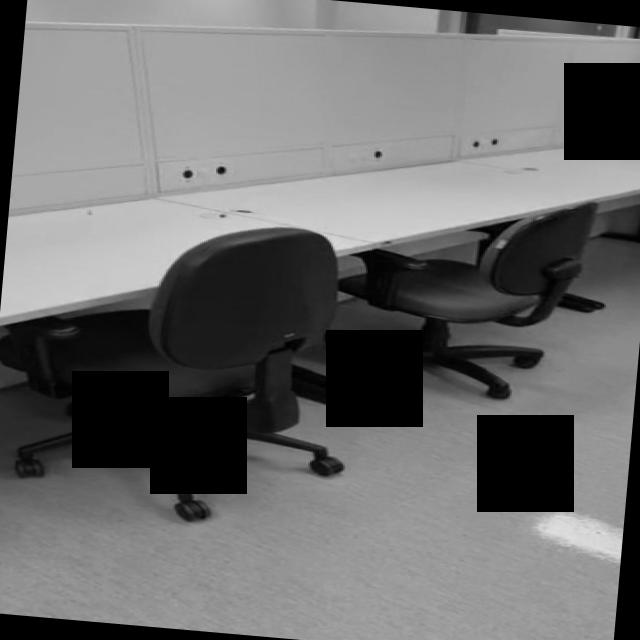cadeira-azul: (0, 200, 365, 534)
